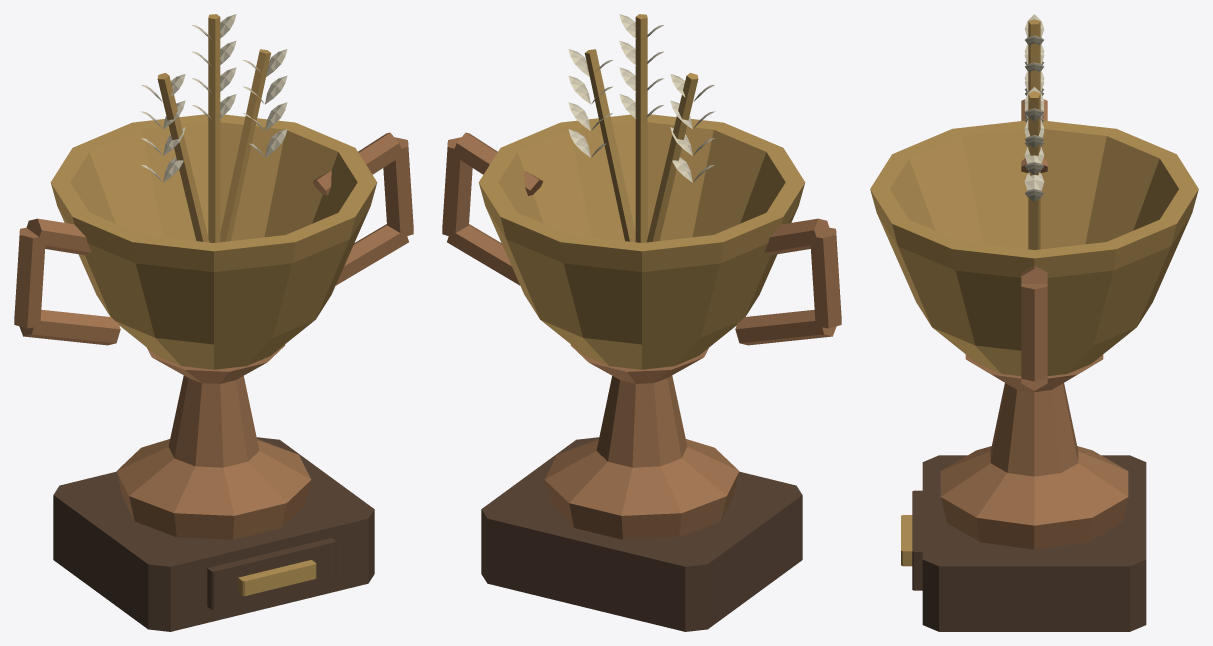
File: decor_harvest_trophy.glb
3 views of the same model, side by side, from view 1: azimuth 30°, elevation 25°; view 2: azimuth 150°, elevation 25°; view 3: azimuth 270°, elevation 25° (orthographic).
Visible parts, largest first — view 1: geometry; view 2: geometry; view 3: geometry.
Part boxes in pixels (bbox=[...]): geometry: bbox=[14, 14, 413, 631]; geometry: bbox=[442, 14, 841, 631]; geometry: bbox=[870, 14, 1198, 631].
Bounding box in the file's own units: 0.7059 × 0.93 × 0.5.
